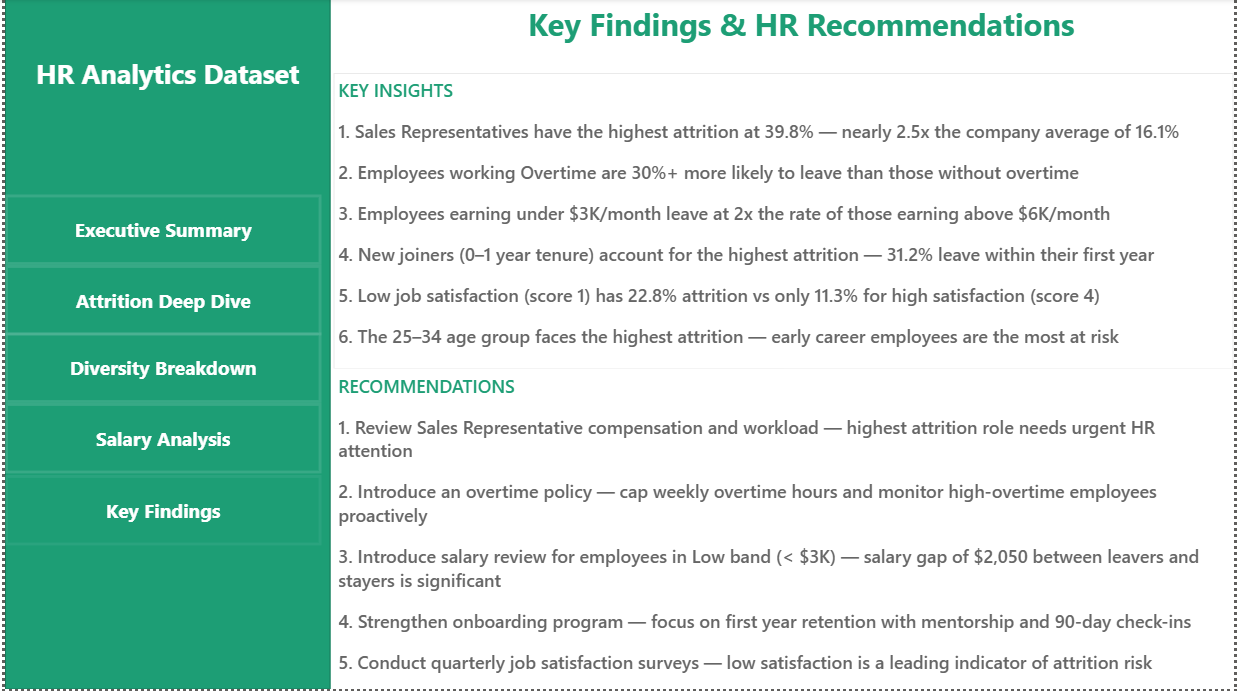

Layout of this report page (visuals, bound fields, positions):
{"tool":"powerbi","page":{"name":"Key Findings","canvas":[1280,720],"ordinal":4},"visuals":[{"type":"textbox","box":[339.2,0,940.9,78.1],"z":0},{"type":"textbox","box":[342.3,78.1,937.8,307.9],"z":1000},{"type":"textbox","box":[342.3,386.1,937.8,334.5],"z":2000},{"type":"shape","box":[0,0,339.2,720.5],"z":3000},{"type":"actionButton","box":[0,204.8,329.8,73.5],"z":4000},{"type":"actionButton","box":[0,278.2,329.8,73.5],"z":5000},{"type":"actionButton","box":[0,348.5,329.8,73.5],"z":6000},{"type":"actionButton","box":[0,422,329.8,73.5],"z":7000},{"type":"actionButton","box":[0,9.4,339.2,137.5],"z":8000},{"type":"actionButton","box":[0,497,329.8,73.5],"z":9000}]}

Visuals, with their boxes in screenshot pixels (x1, y1, x2, y2), scaled from the page's 1280x720 canvas onto the 1237x691 screenshot:
textbox: <region>328, 0, 1236, 75</region>
textbox: <region>331, 75, 1236, 370</region>
textbox: <region>331, 371, 1236, 690</region>
shape: <region>0, 0, 328, 690</region>
actionButton: <region>0, 197, 319, 267</region>
actionButton: <region>0, 267, 319, 338</region>
actionButton: <region>0, 334, 319, 405</region>
actionButton: <region>0, 405, 319, 476</region>
actionButton: <region>0, 9, 328, 141</region>
actionButton: <region>0, 477, 319, 548</region>
